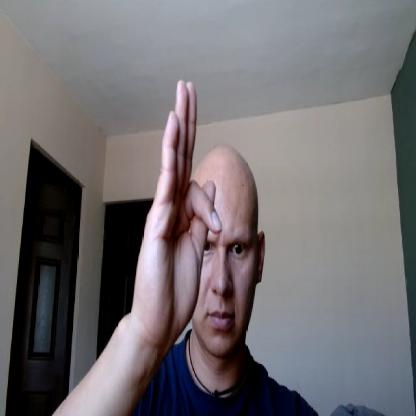F: (131, 79, 223, 340)
